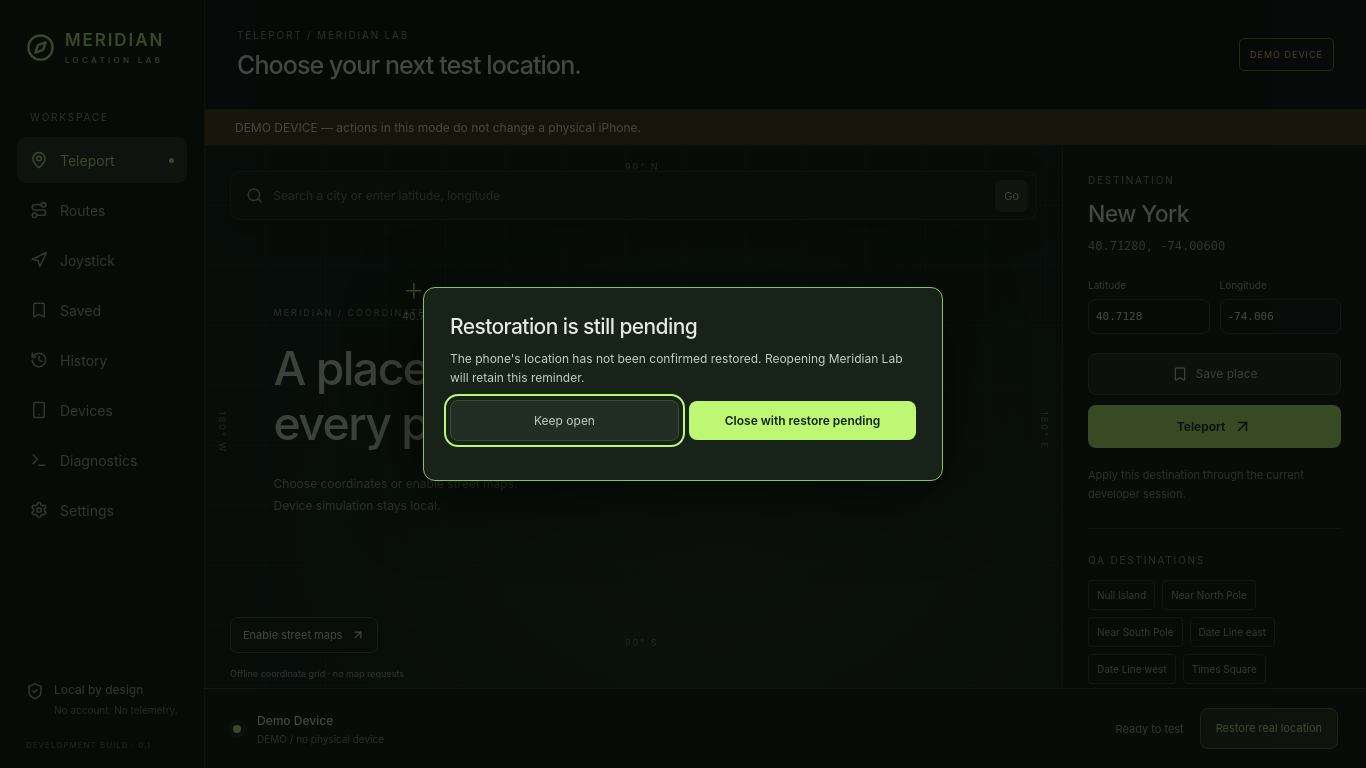
Test case: pending restoration close guard › dismisses the pending close dialog without invoking native close
Expected: the dialog "Restoration is still pending" is shown, top-left (423, 286), bottom-right (943, 482)
Click the button "Keep open". click: (564, 421)
box: top-left (450, 400), bottom-right (679, 442)
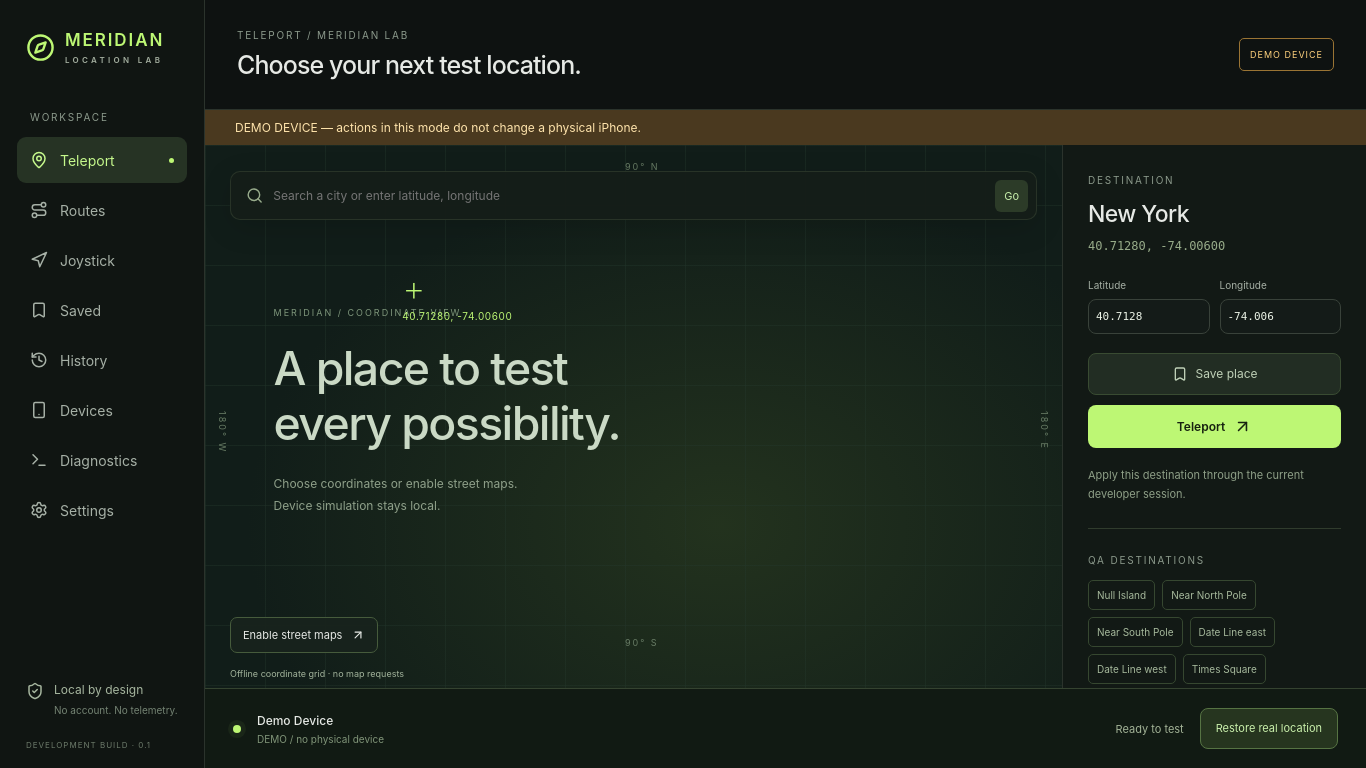
Expected: the dialog is gone
